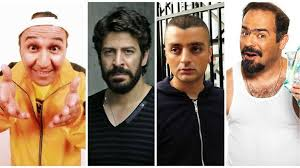middle_eastern_male: (17, 24, 72, 89), (97, 28, 148, 91), (165, 23, 209, 83)
